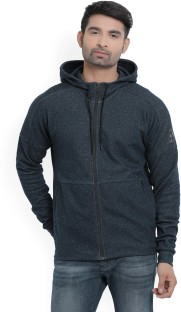Jackets: (10, 49, 181, 267)
